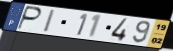1: (87, 14, 102, 39), (76, 13, 89, 37)
4: (110, 17, 129, 43)
9: (132, 20, 151, 44)
I: (42, 8, 56, 33)
P: (16, 5, 43, 31)
